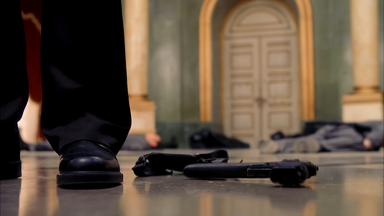firearm: (182, 155, 324, 189), (130, 148, 232, 177)
